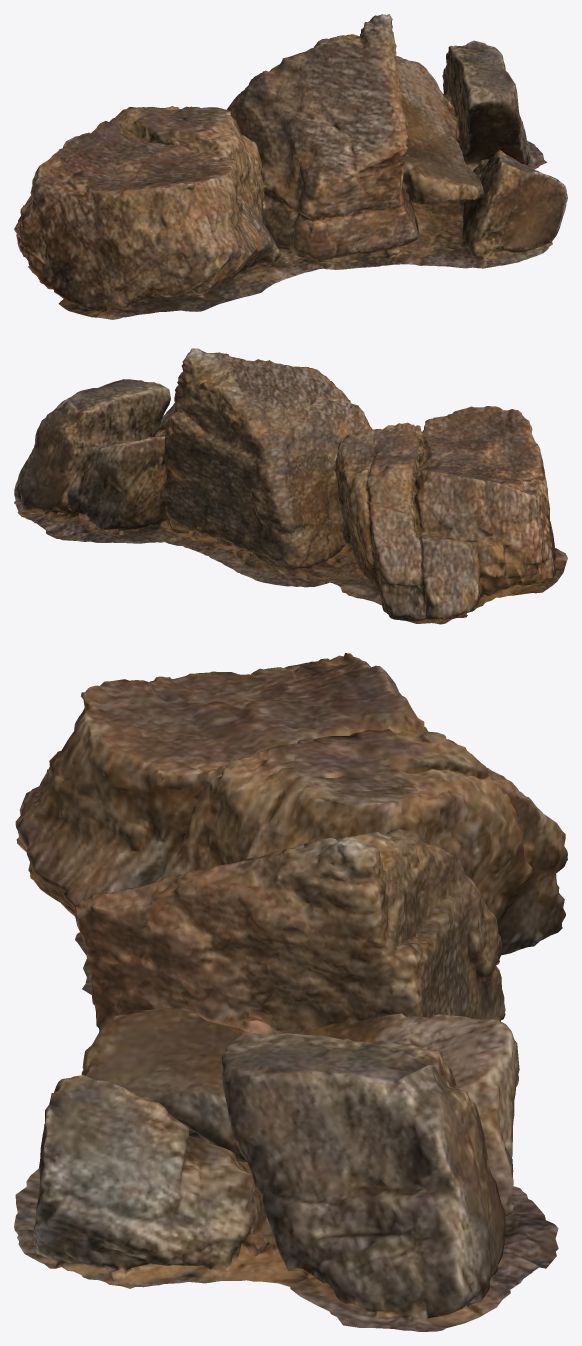
Rendered from boulder-02.glb.
The picture shows the model from 3 angles, top to bottom: view 1: azimuth 30°, elevation 25°; view 2: azimuth 150°, elevation 25°; view 3: azimuth 270°, elevation 25°; orthographic projection. The views are drawn at different scales.
Visible parts, largest first — view 1: boulder_02; view 2: boulder_02; view 3: boulder_02.
Part boxes in pixels (x1=…): boulder_02: x1=14, y1=14, x2=567, y2=319; boulder_02: x1=14, y1=348, x2=567, y2=624; boulder_02: x1=14, y1=653, x2=567, y2=1331.
Size of the model in its own units: 2.53 by 0.8826 by 1.23.
1 material, 1 textured.
